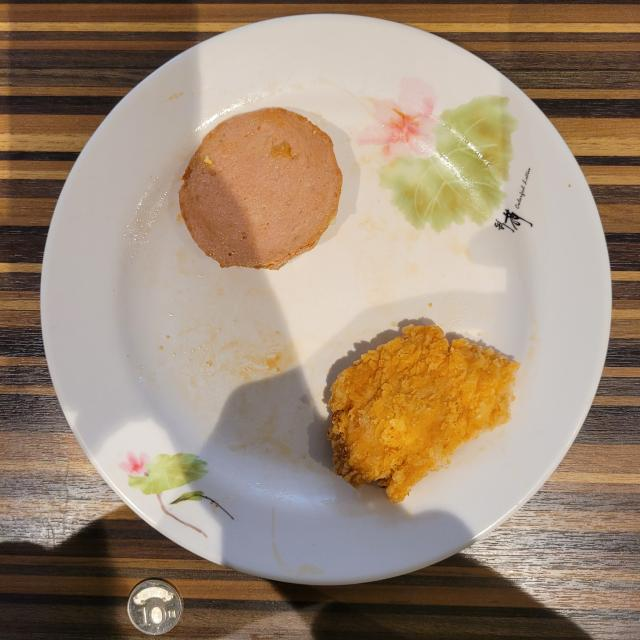Spam: (179, 108, 342, 269)
coin: (128, 578, 182, 635)
fried chicken cutlet: (328, 325, 519, 502)
